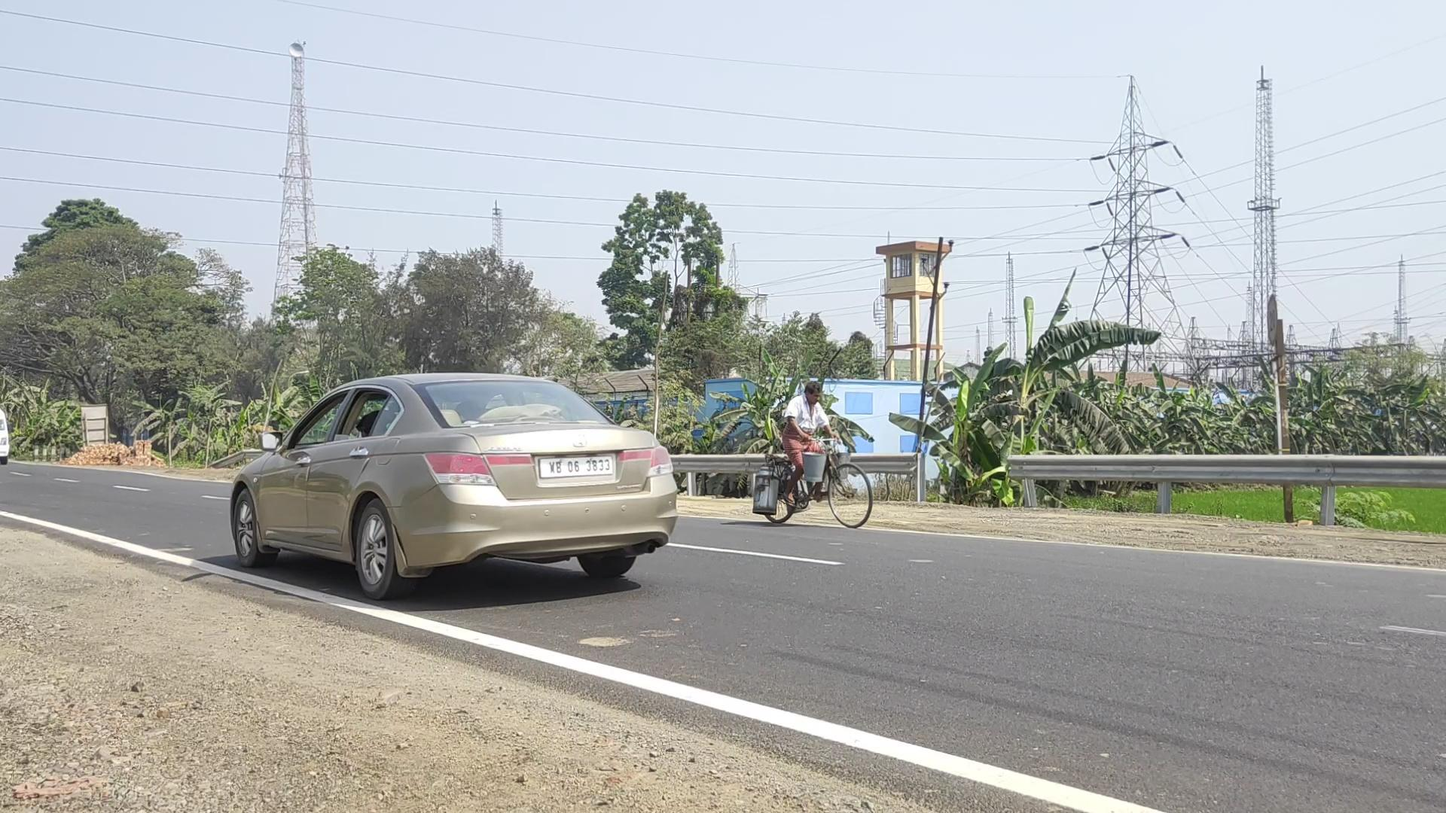bike: (752, 382, 873, 529)
car: (230, 373, 678, 601)
